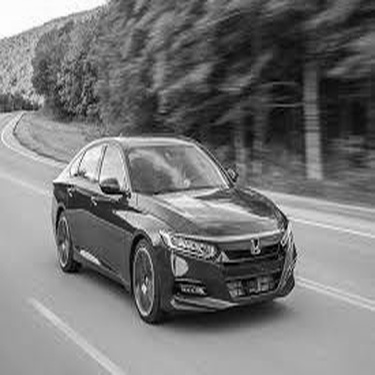car: (5, 112, 322, 324)
